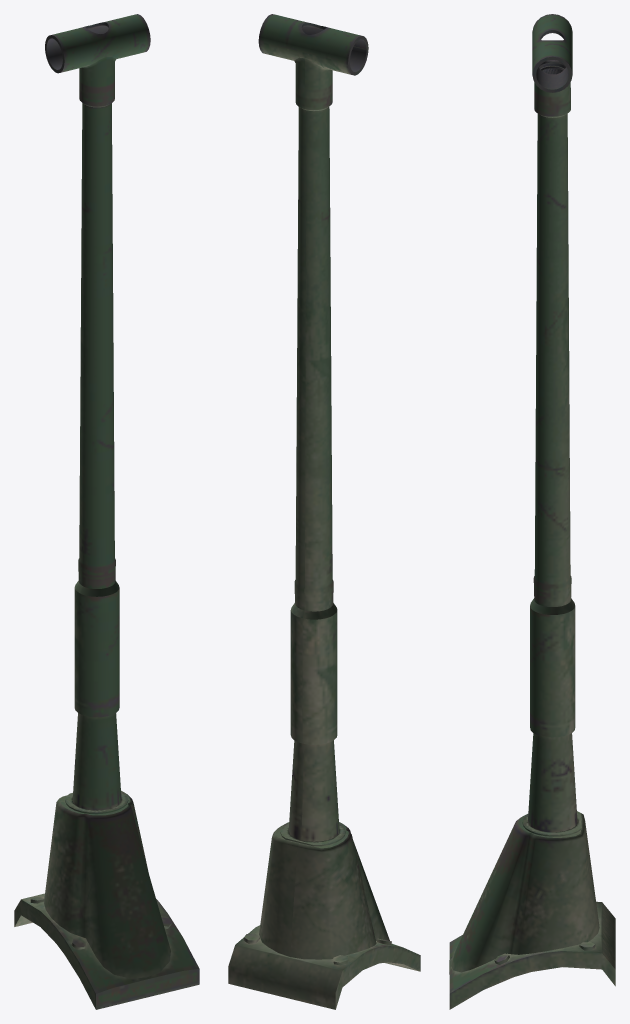
Rendered from Gun_01.glb.
3 views of the same model, side by side, from view 1: azimuth 30°, elevation 25°; view 2: azimuth 150°, elevation 25°; view 3: azimuth 270°, elevation 25° (orthographic). The views are drawn at different scales.
Visible parts, largest first — view 1: set_0_group_0; view 2: set_0_group_0; view 3: set_0_group_0.
Part boxes in pixels (left/top/right/bottom): set_0_group_0: left=14, top=14, right=199, bottom=1009; set_0_group_0: left=228, top=14, right=420, bottom=1009; set_0_group_0: left=449, top=14, right=615, bottom=1009.
Size of the model in its own units: 0.4244 by 3.66 by 0.5799.
Materials: 1 (1 with a texture image).
